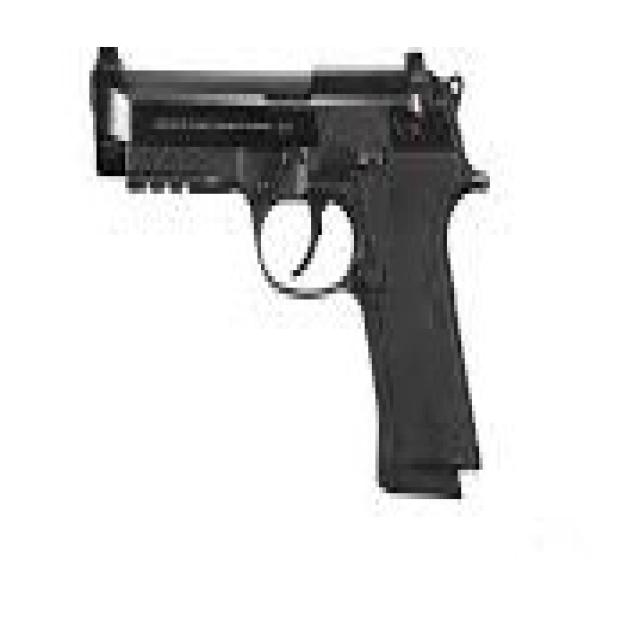pistol: (79, 26, 500, 514)
